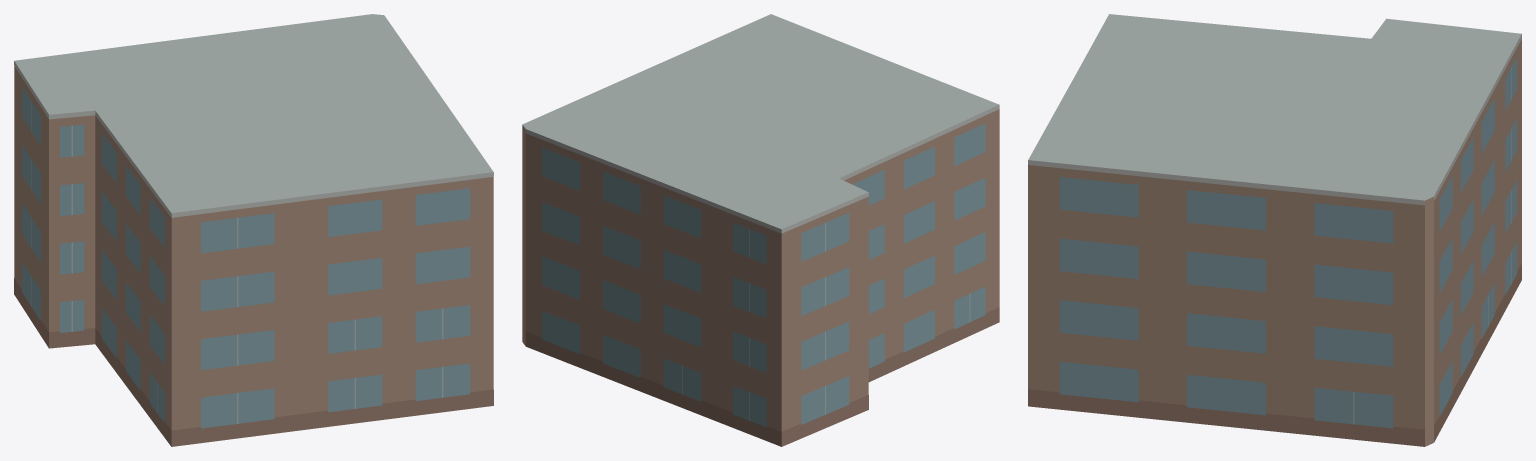
File: survey-upis-32752701.glb
3 renders of one model, left to right at view 1: azimuth 30°, elevation 25°; view 2: azimuth 150°, elevation 25°; view 3: azimuth 270°, elevation 25°, orthographic. The views are drawn at different scales.
Visible parts, largest first — view 1: survey-upis-32752701.tmp; view 2: survey-upis-32752701.tmp; view 3: survey-upis-32752701.tmp.
Part boxes in pixels (bbox=[...]): survey-upis-32752701.tmp: bbox=[14, 14, 493, 446]; survey-upis-32752701.tmp: bbox=[522, 14, 999, 446]; survey-upis-32752701.tmp: bbox=[1028, 14, 1521, 446].
Size of the model in its own units: 20.15 by 12.4 by 22.54.
